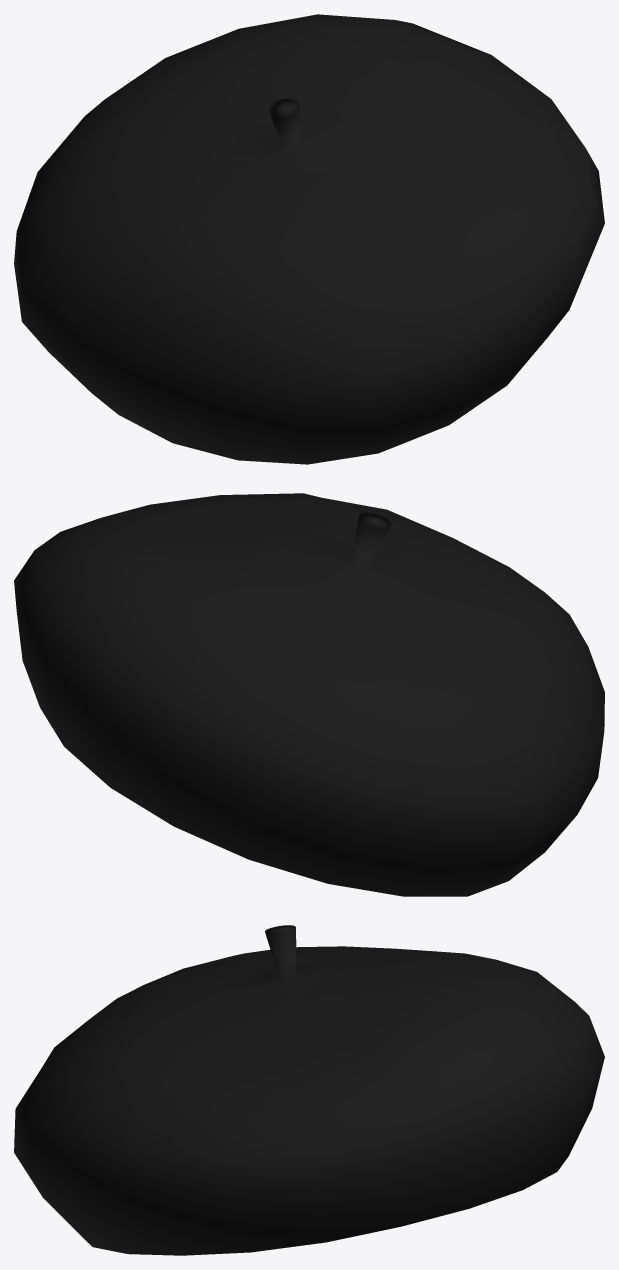
File: Beret_Black.fbx
3 renders of one model, top to bottom at view 1: azimuth 30°, elevation 25°; view 2: azimuth 150°, elevation 25°; view 3: azimuth 270°, elevation 25°, orthographic. The views are drawn at different scales.
Visible parts, largest first — view 1: beret_black; view 2: beret_black; view 3: beret_black.
Part boxes in pixels (bbox=[...]): beret_black: bbox=[14, 14, 604, 464]; beret_black: bbox=[14, 493, 604, 896]; beret_black: bbox=[14, 925, 604, 1255].
Bounding box in the file's own units: 26.95 × 15.24 × 26.55.
Materials: 1 (1 with a texture image).
